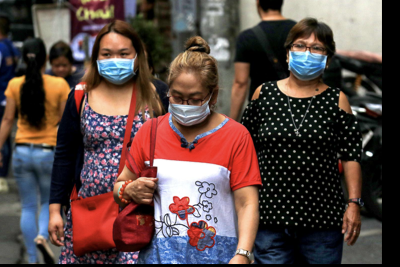with_mask: (167, 87, 212, 127), (96, 44, 138, 84), (288, 39, 328, 81)
without_mask: (50, 61, 70, 78)
